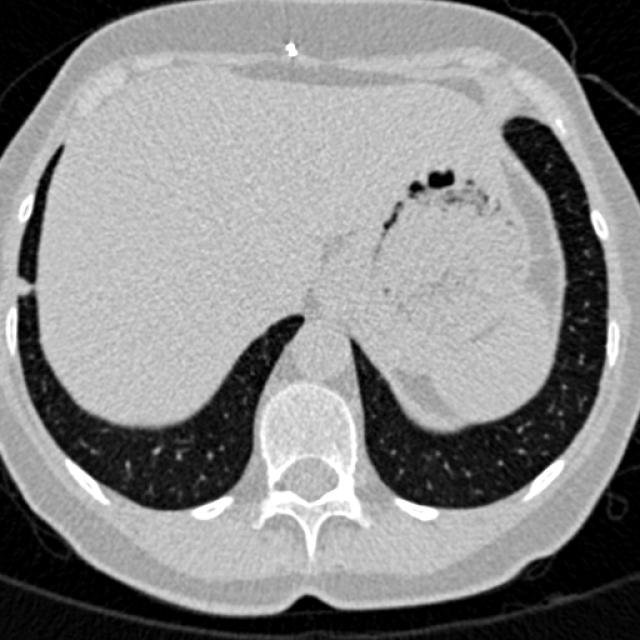nodule: (1, 266, 41, 306)
